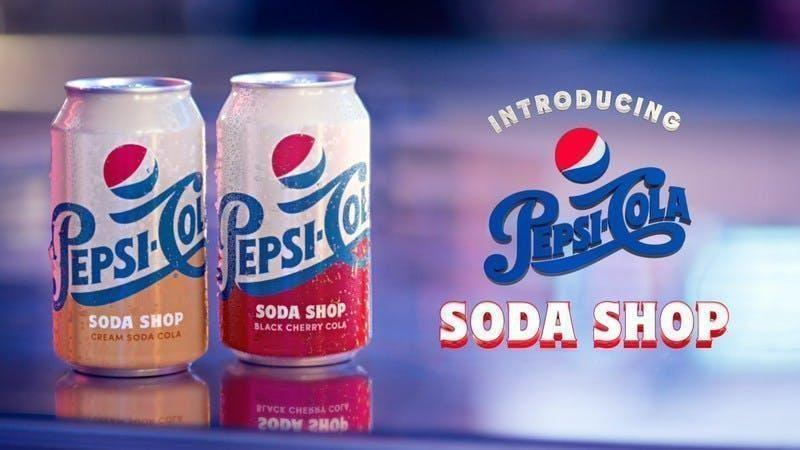tin can: (48, 73, 210, 379), (213, 68, 373, 369)
